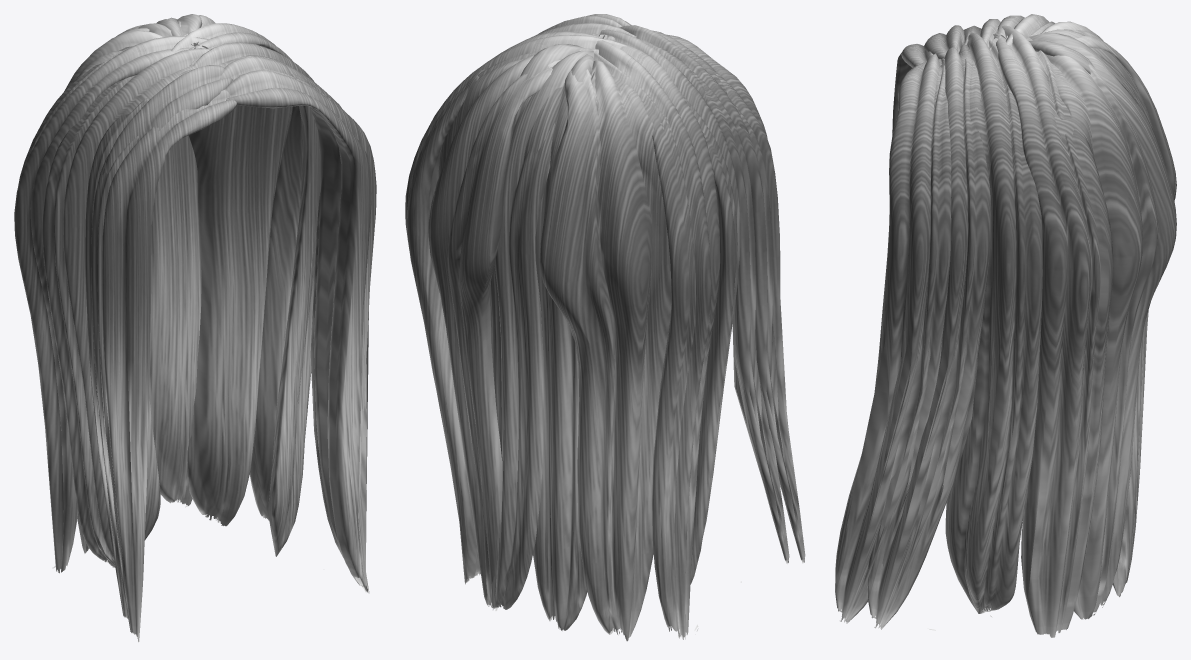
File: perfect_hair_Straight.fbx
3 views of the same model, side by side, from view 1: azimuth 30°, elevation 25°; view 2: azimuth 150°, elevation 25°; view 3: azimuth 270°, elevation 25° (orthographic). The views are drawn at different scales.
Parts seen in each view (by area): view 1: perfect_hair_Straight; view 2: perfect_hair_Straight; view 3: perfect_hair_Straight.
Part boxes in pixels (box(x1,y1,x2,y2)): perfect_hair_Straight: box(14, 14, 376, 642); perfect_hair_Straight: box(405, 14, 805, 641); perfect_hair_Straight: box(835, 14, 1176, 637).
Size of the model in its own units: 3.1 by 5.52 by 3.05.
